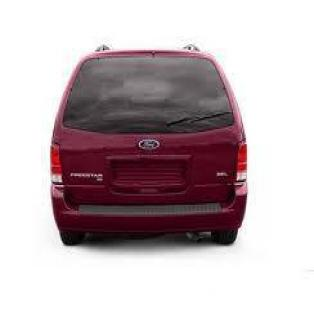Auto: (48, 44, 252, 246)
